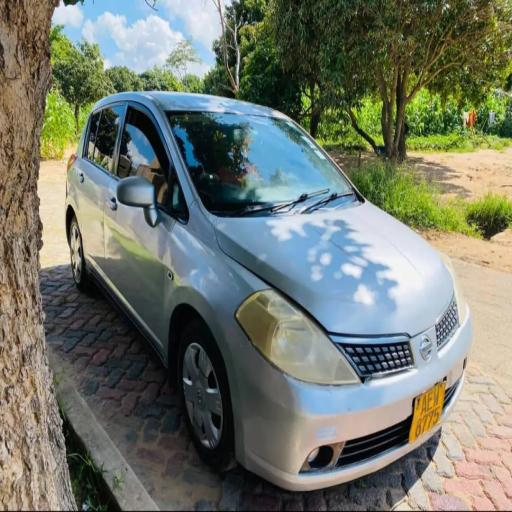number-plates: (412, 378, 446, 443), (412, 378, 446, 442)
